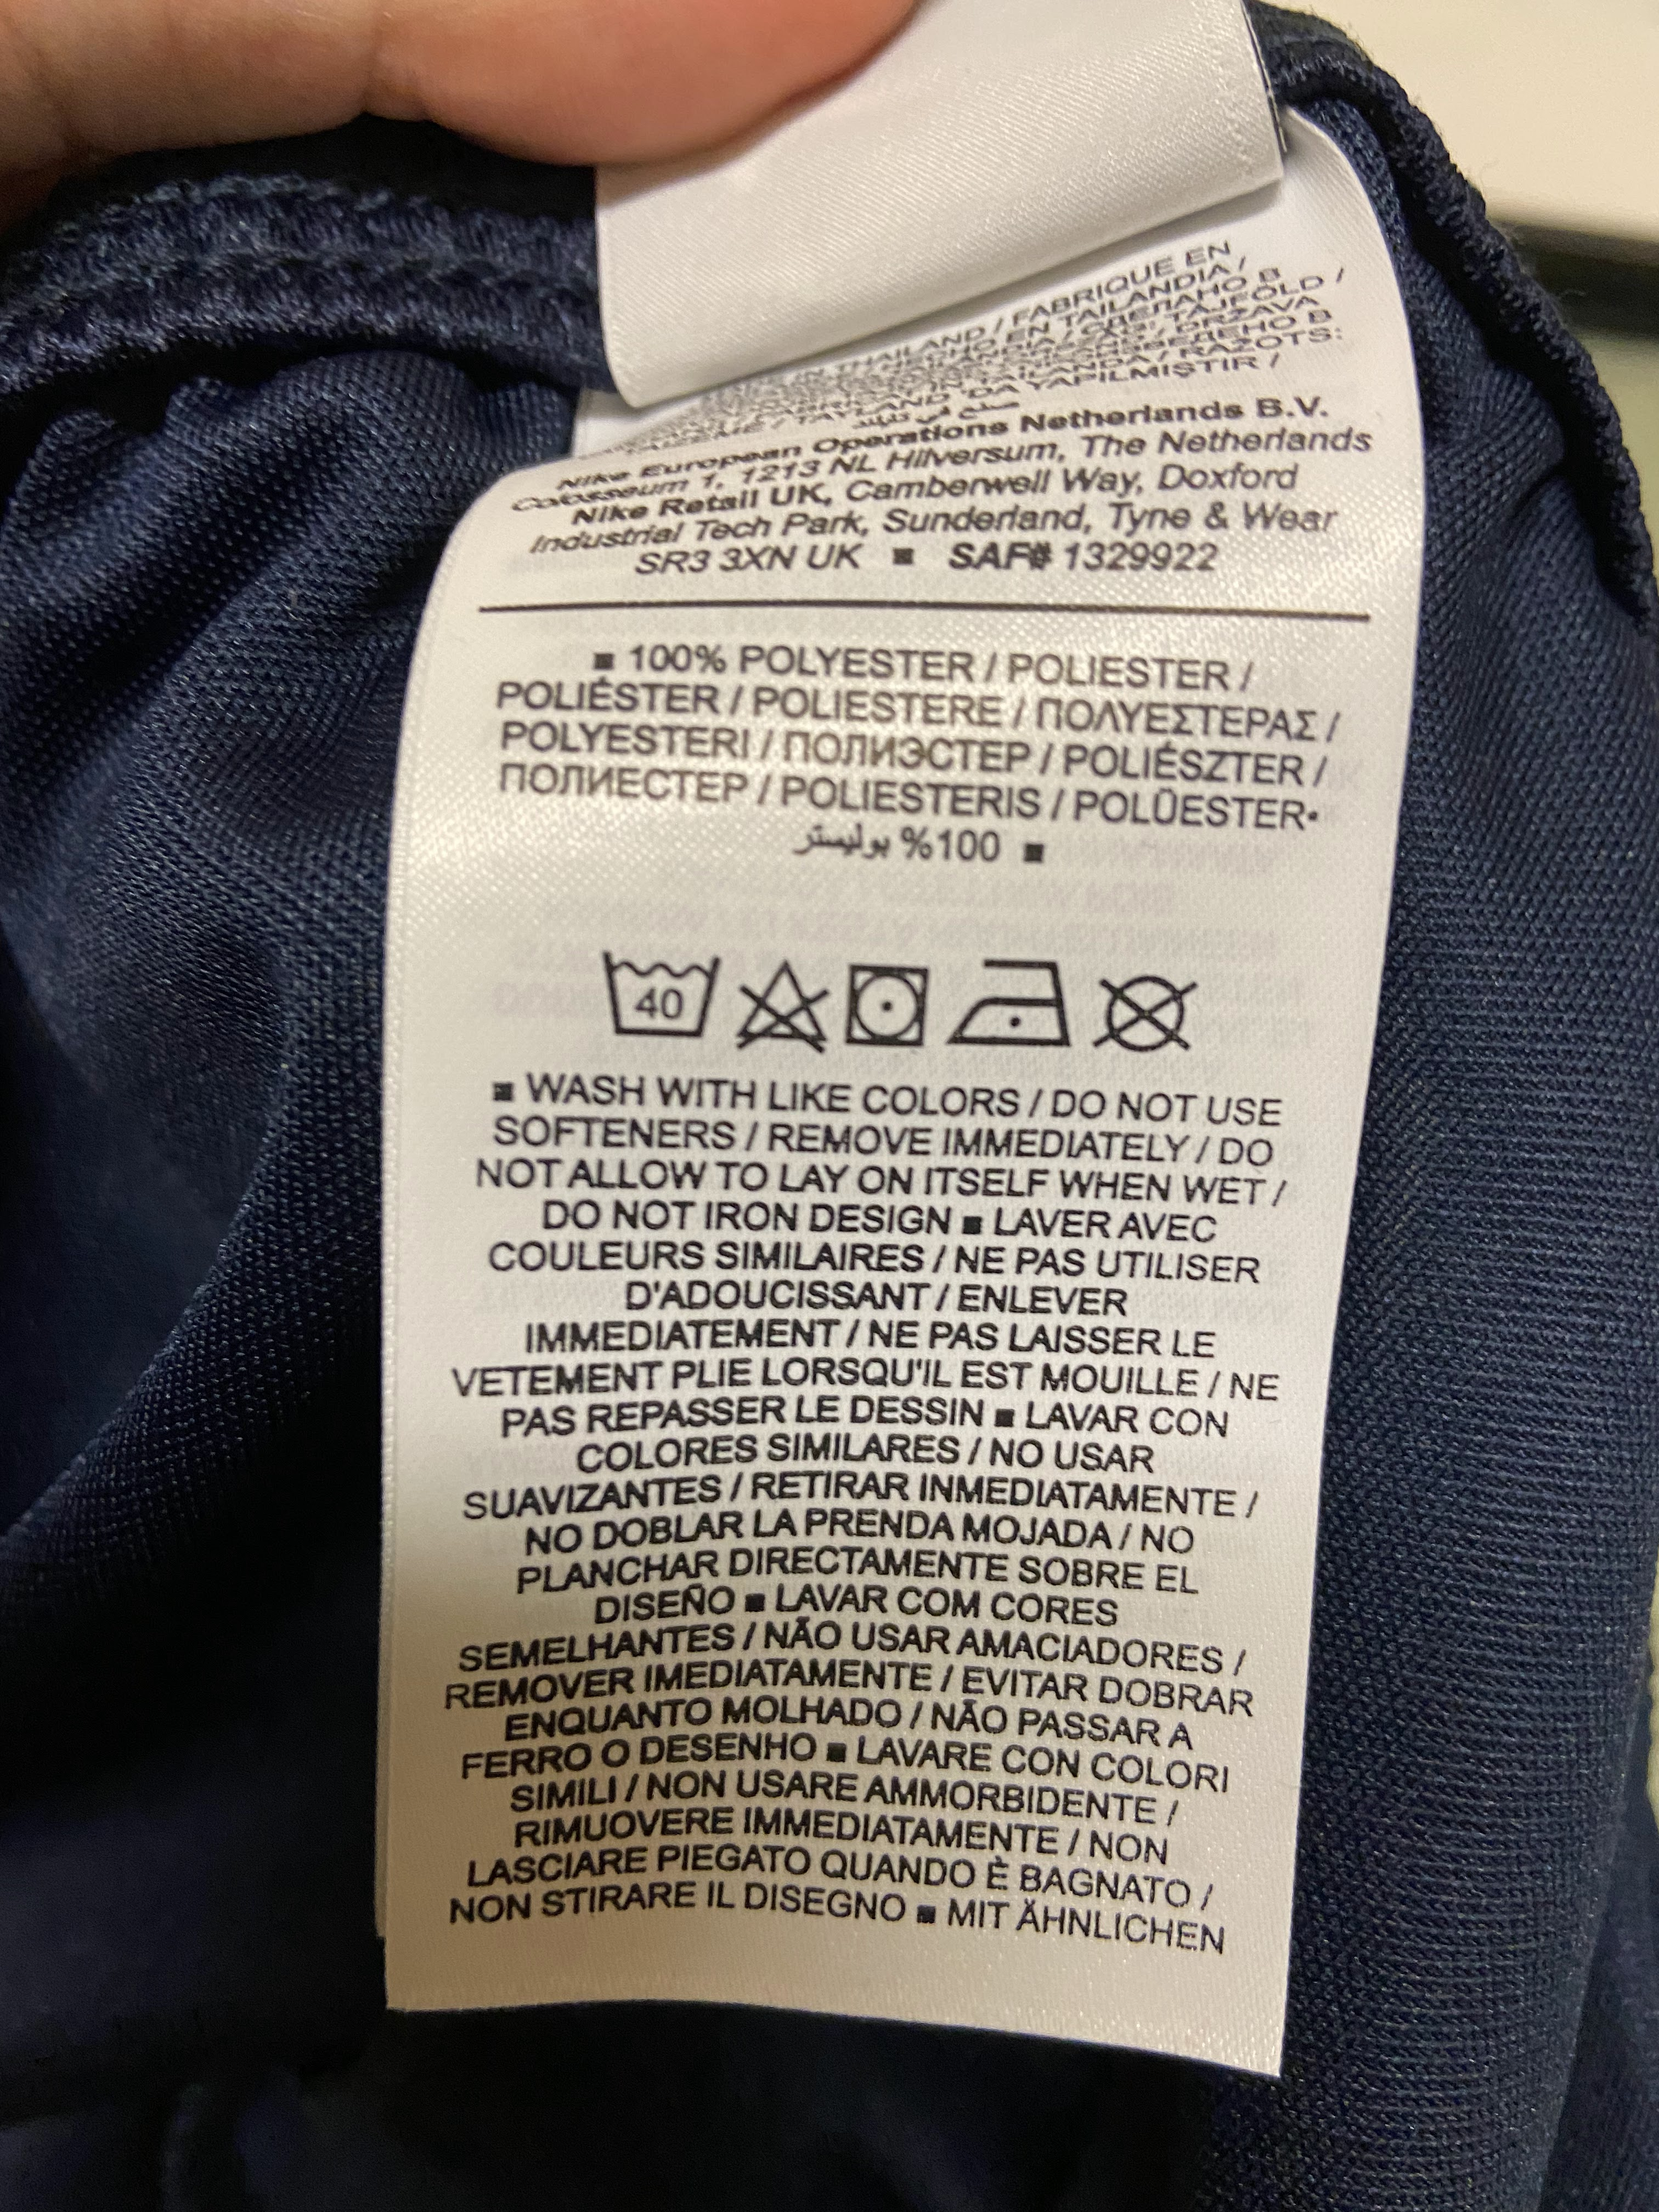do not bleach: (730, 942, 845, 1073)
do not dry clean: (1094, 954, 1232, 1087)
iron low temp: (939, 932, 1089, 1069)
tumble dry low temp: (845, 944, 945, 1052)
wash at or below 40: (577, 928, 730, 1057)
